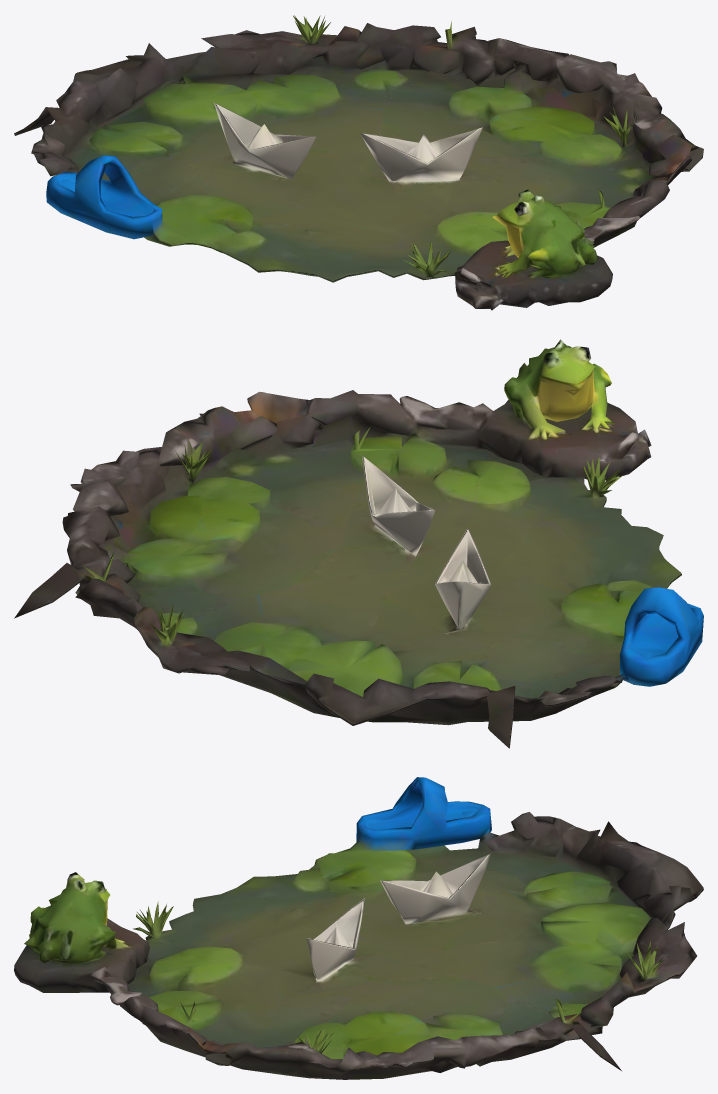
Rendered from pond.glb.
3 views of the same model, one above another, from view 1: azimuth 30°, elevation 25°; view 2: azimuth 150°, elevation 25°; view 3: azimuth 270°, elevation 25° (orthographic). The views are drawn at different scales.
Visible parts, largest first — view 1: tripo_node_86567f1b-ebe9-4213-b244-ca7734c4abef; view 2: tripo_node_86567f1b-ebe9-4213-b244-ca7734c4abef; view 3: tripo_node_86567f1b-ebe9-4213-b244-ca7734c4abef.
Boxes of the visible parts, <box> form: tripo_node_86567f1b-ebe9-4213-b244-ca7734c4abef: <box>14,15,703,310</box>; tripo_node_86567f1b-ebe9-4213-b244-ca7734c4abef: <box>14,339,703,748</box>; tripo_node_86567f1b-ebe9-4213-b244-ca7734c4abef: <box>14,777,703,1079</box>.
Bounding box in the file's own units: 0.8976 × 0.1541 × 0.9815.
Materials: 1 (1 with a texture image).
